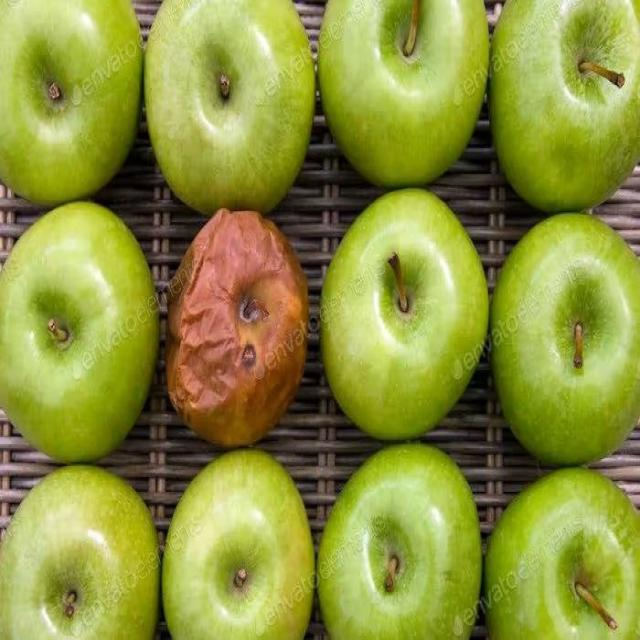fresh_apple: (322, 191, 490, 439)
rotten_apple: (167, 206, 308, 449)
